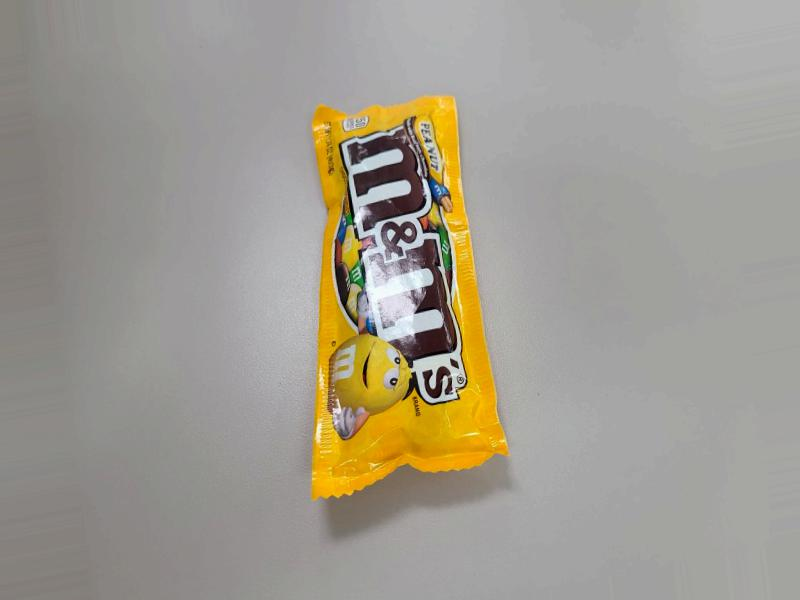m&m: (309, 108, 492, 445)
